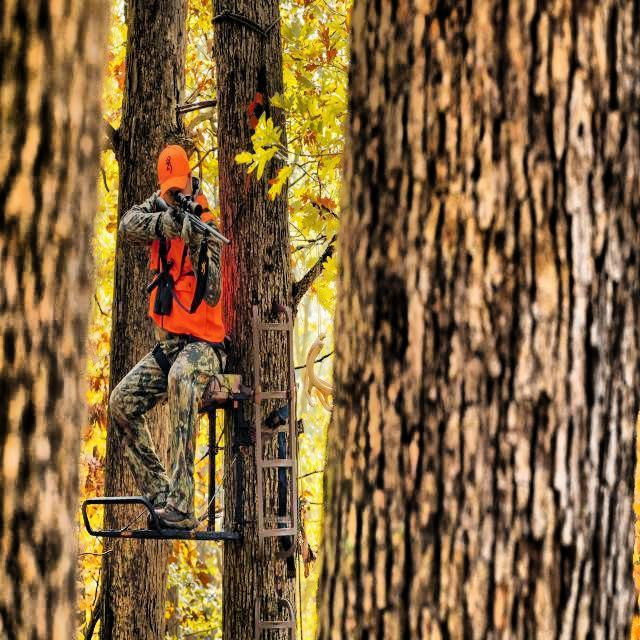safety_jacket: (147, 206, 218, 332)
